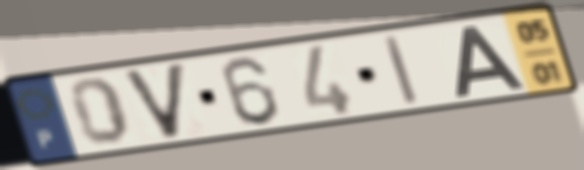0: (67, 74, 135, 149)
4: (301, 40, 357, 118)
6: (219, 52, 284, 130)
A: (453, 22, 529, 100)
I: (379, 31, 423, 108)
V: (118, 59, 189, 143)
